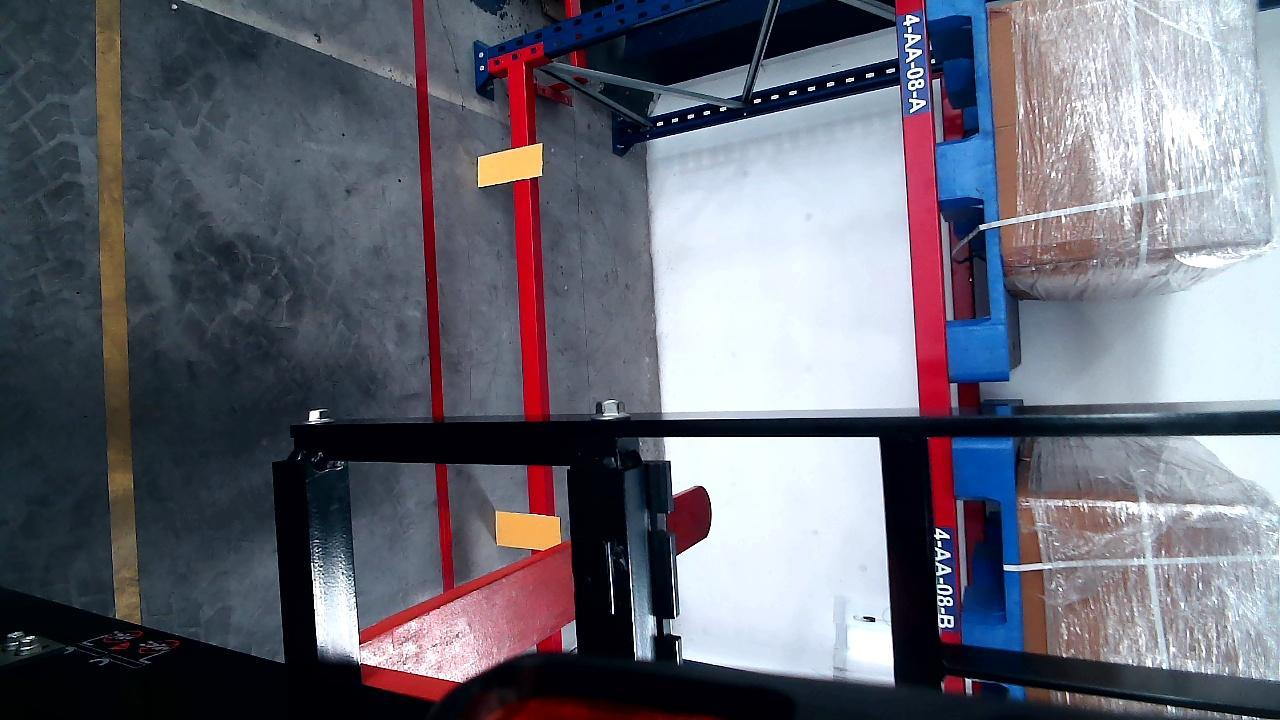red_line: (414, 0, 455, 598)
yellow_line: (94, 0, 140, 625)
